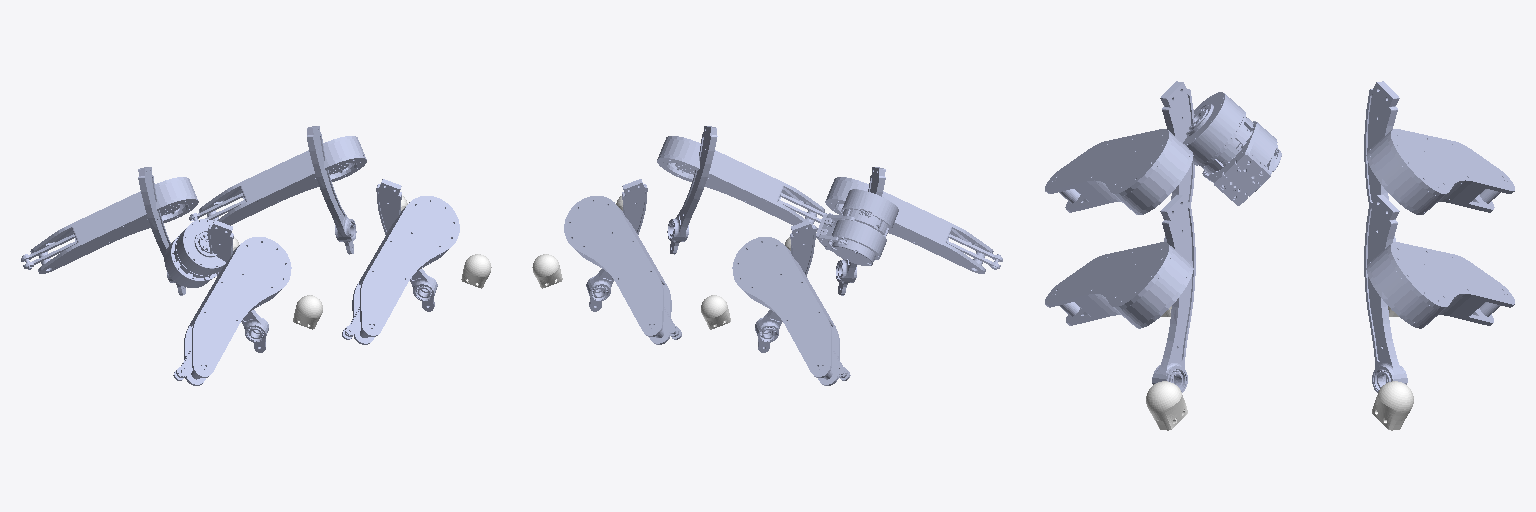
URDF robot description (Opendoge):
<?xml version="1.0" encoding="utf-8"?>
<!-- This URDF was automatically created by SolidWorks to URDF Exporter! Originally created by Stephen Brawner (brawner@gmail.com) 
     Commit Version: 1.5.1-0-g916b5db  Build Version: 1.5.7152.31018
     For more information, please see http://wiki.ros.org/sw_urdf_exporter -->
<robot
  name="Opendoge">
  <link
    name="base_link">
    <inertial>
      <origin
        xyz="0.000134773648275938 1.36367968484041E-06 0.000770353067310358"
        rpy="0 0 0" />
      <mass
        value="2.2352588780603" />
      <inertia
        ixx="0.0054247"
        ixy="1.29E-06"
        ixz="-0.0000959"
        iyy="0.0099197"
        iyz="-0.0000002"
        izz="0.013453" />
    </inertial>
    <visual>
      <origin
        xyz="0 0 0"
        rpy="0 0 0" />
      <geometry>
        <mesh
          filename="../meshes/base_link.STL" />
      </geometry>
      <material
        name="">
        <color
          rgba="0.792156862745098 0.819607843137255 0.933333333333333 1" />
      </material>
    </visual>
    <collision>
      <origin
        xyz="0 0 0.015"
        rpy="0 0 0" />
      <geometry>
        <box size="0.17 0.09 0.1" />
      </geometry>
    </collision>
  </link>
  <link
    name="FL_hip">
    <inertial>
      <origin
        xyz="-0.0019419 -0.00069982 1.3745E-06"
        rpy="0 0 0" />
      <mass
        value="0.27308" />
      <inertia
        ixx="8.83E-05"
        ixy="-0.00000146"
        ixz="0"
        iyy="8.839E-05"
        iyz="-0.00000001"
        izz="0.00010203" />
    </inertial>
    <visual>
      <origin
        xyz="0 0 0"
        rpy="0 0 0" />
      <geometry>
        <mesh
          filename="../meshes/FL_hip.STL" />
      </geometry>
      <material
        name="">
        <color
          rgba="0.79216 0.81961 0.93333 1" />
      </material>
    </visual>
    <collision>
      <origin
        xyz="0.0 0 0"
        rpy="1.56 1.56 0" />
      <geometry>
        <cylinder length="0.045" radius="0.03" />
      </geometry>
    </collision>
  </link>
  <joint
    name="FL_hip_joint"
    type="revolute">
    <origin
      xyz="0.1425 0.039989 0"
      rpy="0 0 0" />
    <parent
      link="base_link" />
    <child
      link="FL_hip" />
    <axis
      xyz="1 0 0" />
    <limit
      lower="-0.785"
      upper="0.26"
      effort="6"
      velocity="10.472" />
  </joint>
  <link
    name="FL_thigh">
    <inertial>
      <origin
        xyz="-0.0003843 -0.028095 -0.0056139"
        rpy="0 0 0" />
      <mass
        value="0.344" />
      <inertia
        ixx="0.00030277"
        ixy="-0.0000149"
        ixz="1.995E-05"
        iyy="0.00024471"
        iyz="-0.00005947"
        izz="0.00018346" />
    </inertial>
    <visual>
      <origin
        xyz="0 0 0"
        rpy="0 0 0" />
      <geometry>
        <mesh
          filename="../meshes/FL_thigh.STL" />
      </geometry>
      <material
        name="">
        <color
          rgba="0.79216 0.81961 0.93333 1" />
      </material>
    </visual>
    <collision>
      <origin
        xyz="0.004 0.0 -0.028"
        rpy="0 0.45 0" />
      <geometry>
        <box size="0.02 0.025 0.07" />
      </geometry>
    </collision>
  </link>
  <joint
    name="FL_thigh_joint"
    type="revolute">
    <origin
      xyz="0 0.08615 0"
      rpy="0 0 0" />
    <parent
      link="FL_hip" />
    <child
      link="FL_thigh" />
    <axis
      xyz="0 1 0" />
    <limit
      lower="-0.785"
      upper="1.134"
      effort="6"
      velocity="10.472" />
  </joint>
  <link
    name="FL_calf">
    <inertial>
      <origin
        xyz="0.0049765 -1.1726E-05 -0.047529"
        rpy="0 0 0" />
      <mass
        value="0.023132" />
      <inertia
        ixx="2.88E-05"
        ixy="0"
        ixz="9E-08"
        iyy="2.93E-05"
        iyz="0"
        izz="1.05E-06" />
    </inertial>
    <visual>
      <origin
        xyz="0 0 0"
        rpy="0 0 0" />
      <geometry>
        <mesh
          filename="../meshes/FL_calf.STL" />
      </geometry>
      <material
        name="">
        <color
          rgba="0.79216 0.81961 0.93333 1" />
      </material>
    </visual>
    <collision>
      <origin
        xyz="0.006 0 -0.040"
        rpy="0 -0.0 0" />
      <geometry>
        <cylinder length="0.05" radius="0.01" />
      </geometry>
    </collision>
  </link>
  <joint
    name="FL_calf_joint"
    type="revolute">
    <origin
      xyz="0 0 -0.0999999999999995"
      rpy="0 0 0" />
    <parent
      link="FL_thigh" />
    <child
      link="FL_calf" />
    <axis
      xyz="0 1 0" />
    <limit
      lower="-2.68"
      upper="-1.04"
      effort="9"
      velocity="6.981" />
  </joint>
  <link
    name="FL_foot">
    <inertial>
      <origin
        xyz="-0.000865572631019856 -1.88410314572174E-07 -0.00223318694318475"
        rpy="0 0 0" />
      <mass
        value="0.003984611677171" />
      <inertia
        ixx="2.4E-07"
        ixy="0"
        ixz="-0.00000002"
        iyy="2.6E-07"
        iyz="0"
        izz="2.9E-07" />
    </inertial>
    <visual>
      <origin
        xyz="0 0 0"
        rpy="0 0 0" />
      <geometry>
        <mesh
          filename="../meshes/FL_foot.STL" />
      </geometry>
      <material
        name="">
        <color
          rgba="1 1 1 1" />
      </material>
    </visual>
    <collision>
      <origin
        xyz="0 0 0"
        rpy="0 0 0" />
      <geometry>
        <sphere radius="0.015" />
      </geometry>
    </collision>
  </link>
  <joint
    name="FL_foot_joint"
    type="fixed" dont_collapse="true">
    <origin
      xyz="-1.19560528428764E-05 0 -0.0993915326022981"
      rpy="0 0 0" />
    <parent
      link="FL_calf" />
    <child
      link="FL_foot" />
    <axis
      xyz="0 0 0" />
  </joint>
  <link
    name="FR_hip">
    <inertial>
      <origin
        xyz="-0.0019419 0.00069983 1.3735E-06"
        rpy="0 0 0" />
      <mass
        value="0.27308" />
      <inertia
        ixx="8.83E-05"
        ixy="1.46E-06"
        ixz="0"
        iyy="8.839E-05"
        iyz="1E-08"
        izz="0.00010203" />
    </inertial>
    <visual>
      <origin
        xyz="0 0 0"
        rpy="0 0 0" />
      <geometry>
        <mesh
          filename="../meshes/FR_hip.STL" />
      </geometry>
      <material
        name="">
        <color
          rgba="0.79216 0.81961 0.93333 1" />
      </material>
    </visual>
    <collision>
      <origin
        xyz="0.0 0 0"
        rpy="1.56 1.56 0" />
      <geometry>
        <cylinder length="0.045" radius="0.03" />
      </geometry>
    </collision>
  </link>
  <joint
    name="FR_hip_joint"
    type="revolute">
    <origin
      xyz="0.142499999999858 -0.0400749999976656 0"
      rpy="0 0 0" />
    <parent
      link="base_link" />
    <child
      link="FR_hip" />
    <axis
      xyz="1 0 0" />
    <limit
      lower="-0.26"
      upper="0.785"
      effort="6"
      velocity="10.472" />
  </joint>
  <link
    name="FR_thigh">
    <inertial>
      <origin
        xyz="-0.00039283 0.028155 -0.0056112"
        rpy="0 0 0" />
      <mass
        value="0.344" />
      <inertia
        ixx="0.00030298"
        ixy="1.489E-05"
        ixz="1.994E-05"
        iyy="0.00024472"
        iyz="5.959E-05"
        izz="0.00018366" />
    </inertial>
    <visual>
      <origin
        xyz="0 0 0"
        rpy="0 0 0" />
      <geometry>
        <mesh
          filename="../meshes/FR_thigh.STL" />
      </geometry>
      <material
        name="">
        <color
          rgba="0.79216 0.81961 0.93333 1" />
      </material>
    </visual>
    <collision>
      <origin
        xyz="0.004 0.0 -0.028"
        rpy="0 0.45 0" />
      <geometry>
        <box size="0.02 0.025 0.07" />
      </geometry>
    </collision>
  </link>
  <joint
    name="FR_thigh_joint"
    type="revolute">
    <origin
      xyz="0 -0.0861000000019044 0"
      rpy="0 0 0" />
    <parent
      link="FR_hip" />
    <child
      link="FR_thigh" />
    <axis
      xyz="0 1 0" />
    <limit
      lower="-0.785"
      upper="1.134"
      effort="6"
      velocity="10.472" />
  </joint>
  <link
    name="FR_calf">
    <inertial>
      <origin
        xyz="0.00497648448877838 -1.17258056406416E-05 -0.0475293389060001"
        rpy="0 0 0" />
      <mass
        value="0.0231322296621475" />
      <inertia
        ixx="2.88E-05"
        ixy="0"
        ixz="9E-08"
        iyy="2.93E-05"
        iyz="0"
        izz="1.05E-06" />
    </inertial>
    <visual>
      <origin
        xyz="0 0 0"
        rpy="0 0 0" />
      <geometry>
        <mesh
          filename="../meshes/FR_calf.STL" />
      </geometry>
      <material
        name="">
        <color
          rgba="0.792156862745098 0.819607843137255 0.933333333333333 1" />
      </material>
    </visual>
    <collision>
      <origin
        xyz="0.006 0 -0.040"
        rpy="0 -0.0 0" />
      <geometry>
        <cylinder length="0.05" radius="0.01" />
      </geometry>
    </collision>
  </link>
  <joint
    name="FR_calf_joint"
    type="revolute">
    <origin
      xyz="0 0 -0.0999999999999996"
      rpy="0 0 0" />
    <parent
      link="FR_thigh" />
    <child
      link="FR_calf" />
    <axis
      xyz="0 1 0" />
    <limit
      lower="-2.68"
      upper="-1.04"
      effort="9"
      velocity="6.981" />
  </joint>
  <link
    name="FR_foot">
    <inertial>
      <origin
        xyz="-0.00086557 -1.8841E-07 -0.0022332"
        rpy="0 0 0" />
      <mass
        value="0.0039846" />
      <inertia
        ixx="2.4E-07"
        ixy="0"
        ixz="-0.00000002"
        iyy="2.6E-07"
        iyz="0"
        izz="2.9E-07" />
    </inertial>
    <visual>
      <origin
        xyz="0 0 0"
        rpy="0 0 0" />
      <geometry>
        <mesh
          filename="../meshes/FR_foot.STL" />
      </geometry>
      <material
        name="">
        <color
          rgba="1 1 1 1" />
      </material>
    </visual>
    <collision>
      <origin
        xyz="0 0 0"
        rpy="0 0 0" />
      <geometry>
        <sphere radius="0.015" />
      </geometry>
    </collision>
  </link>
  <joint
    name="FR_foot_joint"
    type="fixed" dont_collapse="true">
    <origin
      xyz="-1.19560528428764E-05 0 -0.0993915326022981"
      rpy="0 0 0" />
    <parent
      link="FR_calf" />
    <child
      link="FR_foot" />
    <axis
      xyz="0 0 0" />
  </joint>
  <link
    name="RL_hip">
    <inertial>
      <origin
        xyz="0.0019419 -0.00069983 1.3735E-06"
        rpy="0 0 0" />
      <mass
        value="0.27308" />
      <inertia
        ixx="8.83E-05"
        ixy="1.46E-06"
        ixz="0"
        iyy="8.839E-05"
        iyz="-0.00000001"
        izz="0.00010203" />
    </inertial>
    <visual>
      <origin
        xyz="0 0 0"
        rpy="0 0 0" />
      <geometry>
        <mesh
          filename="../meshes/RL_hip.STL" />
      </geometry>
      <material
        name="">
        <color
          rgba="0.79216 0.81961 0.93333 1" />
      </material>
    </visual>
    <collision>
      <origin
        xyz="0.0 0 0"
        rpy="1.56 1.56 0" />
      <geometry>
        <cylinder length="0.045" radius="0.03" />
      </geometry>
    </collision>
  </link>
  <joint
    name="RL_hip_joint"
    type="revolute">
    <origin
      xyz="-0.1425 0.040025 0"
      rpy="0 0 0" />
    <parent
      link="base_link" />
    <child
      link="RL_hip" />
    <axis
      xyz="1 0 0" />
    <limit
      lower="-0.785"
      upper="0.26"
      effort="6"
      velocity="10.472" />
  </joint>
  <link
    name="RL_thigh">
    <inertial>
      <origin
        xyz="-0.0003843 -0.028095 -0.0056139"
        rpy="0 0 0" />
      <mass
        value="0.344" />
      <inertia
        ixx="0.00030277"
        ixy="-0.0000149"
        ixz="1.995E-05"
        iyy="0.00024471"
        iyz="-0.00005947"
        izz="0.00018346" />
    </inertial>
    <visual>
      <origin
        xyz="0 0 0"
        rpy="0 0 0" />
      <geometry>
        <mesh
          filename="../meshes/RL_thigh.STL" />
      </geometry>
      <material
        name="">
        <color
          rgba="0.79216 0.81961 0.93333 1" />
      </material>
    </visual>
    <collision>
      <origin
        xyz="0.004 0.0 -0.028"
        rpy="0 0.45 0" />
      <geometry>
        <box size="0.02 0.025 0.07" />
      </geometry>
    </collision>
  </link>
  <joint
    name="RL_thigh_joint"
    type="revolute">
    <origin
      xyz="0 0.08615 0"
      rpy="0 0 0" />
    <parent
      link="RL_hip" />
    <child
      link="RL_thigh" />
    <axis
      xyz="0 1 0" />
    <limit
      lower="-0.785"
      upper="1.134"
      effort="6"
      velocity="10.472" />
  </joint>
  <link
    name="RL_calf">
    <inertial>
      <origin
        xyz="0.0049765 -1.1726E-05 -0.047529"
        rpy="0 0 0" />
      <mass
        value="0.023132" />
      <inertia
        ixx="2.88E-05"
        ixy="0"
        ixz="9E-08"
        iyy="2.93E-05"
        iyz="0"
        izz="1.05E-06" />
    </inertial>
    <visual>
      <origin
        xyz="0 0 0"
        rpy="0 0 0" />
      <geometry>
        <mesh
          filename="../meshes/RL_calf.STL" />
      </geometry>
      <material
        name="">
        <color
          rgba="0.79216 0.81961 0.93333 1" />
      </material>
    </visual>
    <collision>
      <origin
        xyz="0.006 0 -0.040"
        rpy="0 -0.0 0" />
      <geometry>
        <cylinder length="0.05" radius="0.01" />
      </geometry>
    </collision>
  </link>
  <joint
    name="RL_calf_joint"
    type="revolute">
    <origin
      xyz="0 0 -0.0999999999999996"
      rpy="0 0 0" />
    <parent
      link="RL_thigh" />
    <child
      link="RL_calf" />
    <axis
      xyz="0 1 0" />
    <limit
      lower="-2.68"
      upper="-1.04"
      effort="9"
      velocity="6.981" />
  </joint>
  <link
    name="RL_foot">
    <inertial>
      <origin
        xyz="-0.00086557 -1.8841E-07 -0.0022332"
        rpy="0 0 0" />
      <mass
        value="0.0039846" />
      <inertia
        ixx="2.4E-07"
        ixy="0"
        ixz="-0.00000002"
        iyy="2.6E-07"
        iyz="0"
        izz="2.9E-07" />
    </inertial>
    <visual>
      <origin
        xyz="0 0 0"
        rpy="0 0 0" />
      <geometry>
        <mesh
          filename="../meshes/RL_foot.STL" />
      </geometry>
      <material
        name="">
        <color
          rgba="1 1 1 1" />
      </material>
    </visual>
    <collision>
      <origin
        xyz="0 0 0"
        rpy="0 0 0" />
      <geometry>
        <sphere radius="0.015" />
      </geometry>
    </collision>
  </link>
  <joint
    name="RL_foot_joint"
    type="fixed" dont_collapse="true">
    <origin
      xyz="-1.19560528427792E-05 0 -0.099391532602298"
      rpy="0 0 0" />
    <parent
      link="RL_calf" />
    <child
      link="RL_foot" />
    <axis
      xyz="0 0 0" />
  </joint>
  <link
    name="RR_hip">
    <inertial>
      <origin
        xyz="0.0019419 0.00069982 1.3745E-06"
        rpy="0 0 0" />
      <mass
        value="0.27308" />
      <inertia
        ixx="8.83E-05"
        ixy="-0.00000146"
        ixz="0"
        iyy="8.839E-05"
        iyz="1E-08"
        izz="0.00010203" />
    </inertial>
    <visual>
      <origin
        xyz="0 0 0"
        rpy="0 0 0" />
      <geometry>
        <mesh
          filename="../meshes/RR_hip.STL" />
      </geometry>
      <material
        name="">
        <color
          rgba="0.79216 0.81961 0.93333 1" />
      </material>
    </visual>
    <collision>
      <origin
        xyz="0.0 0 0"
        rpy="1.56 1.56 0" />
      <geometry>
        <cylinder length="0.045" radius="0.03" />
      </geometry>
    </collision>
  </link>
  <joint
    name="RR_hip_joint"
    type="revolute">
    <origin
      xyz="-0.1425 -0.040025 0"
      rpy="0 0 0" />
    <parent
      link="base_link" />
    <child
      link="RR_hip" />
    <axis
      xyz="1 0 0" />
    <limit
      lower="-0.26"
      upper="0.785"
      effort="6"
      velocity="10.472" />
  </joint>
  <link
    name="RR_thigh">
    <inertial>
      <origin
        xyz="-0.00039283 0.028155 -0.0056112"
        rpy="0 0 0" />
      <mass
        value="0.344" />
      <inertia
        ixx="0.00030298"
        ixy="1.489E-05"
        ixz="1.994E-05"
        iyy="0.00024472"
        iyz="5.959E-05"
        izz="0.00018366" />
    </inertial>
    <visual>
      <origin
        xyz="0 0 0"
        rpy="0 0 0" />
      <geometry>
        <mesh
          filename="../meshes/RR_thigh.STL" />
      </geometry>
      <material
        name="">
        <color
          rgba="0.79216 0.81961 0.93333 1" />
      </material>
    </visual>
    <collision>
      <origin
        xyz="0.004 0.0 -0.028"
        rpy="0 0.45 0" />
      <geometry>
        <box size="0.02 0.025 0.07" />
      </geometry>
    </collision>
  </link>
  <joint
    name="RR_thigh_joint"
    type="revolute">
    <origin
      xyz="0 -0.0861499999999285 0"
      rpy="0 0 0" />
    <parent
      link="RR_hip" />
    <child
      link="RR_thigh" />
    <axis
      xyz="0 1 0" />
    <limit
      lower="-0.785"
      upper="1.134"
      effort="6"
      velocity="10.472" />
  </joint>
  <link
    name="RR_calf">
    <inertial>
      <origin
        xyz="0.0049765 -1.1726E-05 -0.047529"
        rpy="0 0 0" />
      <mass
        value="0.023132" />
      <inertia
        ixx="2.88E-05"
        ixy="0"
        ixz="9E-08"
        iyy="2.93E-05"
        iyz="0"
        izz="1.05E-06" />
    </inertial>
    <visual>
      <origin
        xyz="0 0 0"
        rpy="0 0 0" />
      <geometry>
        <mesh
          filename="../meshes/RR_calf.STL" />
      </geometry>
      <material
        name="">
        <color
          rgba="0.79216 0.81961 0.93333 1" />
      </material>
    </visual>
    <collision>
      <origin
        xyz="0.006 0 -0.040"
        rpy="0 -0.0 0" />
      <geometry>
        <cylinder length="0.05" radius="0.01" />
      </geometry>
    </collision>
  </link>
  <joint
    name="RR_calf_joint"
    type="revolute">
    <origin
      xyz="0 0 -0.1"
      rpy="0 0 0" />
    <parent
      link="RR_thigh" />
    <child
      link="RR_calf" />
    <axis
      xyz="0 1 0" />
    <limit
      lower="-2.68"
      upper="-1.04"
      effort="9"
      velocity="6.981" />
  </joint>
  <link
    name="RR_foot">
    <inertial>
      <origin
        xyz="-0.00086557 -1.8841E-07 -0.0022332"
        rpy="0 0 0" />
      <mass
        value="0.0039846" />
      <inertia
        ixx="2.4E-07"
        ixy="0"
        ixz="-0.00000002"
        iyy="2.6E-07"
        iyz="0"
        izz="2.9E-07" />
    </inertial>
    <visual>
      <origin
        xyz="0 0 0"
        rpy="0 0 0" />
      <geometry>
        <mesh
          filename="../meshes/RR_foot.STL" />
      </geometry>
      <material
        name="">
        <color
          rgba="1 1 1 1" />
      </material>
    </visual>
    <collision>
      <origin
        xyz="0 0 0"
        rpy="0 0 0" />
      <geometry>
        <sphere radius="0.015" />
      </geometry>
    </collision>
  </link>
  <joint
    name="RR_foot_joint"
    type="fixed" dont_collapse="true">
    <origin
      xyz="-1.19560528427237E-05 0 -0.0993915326022981"
      rpy="0 0 0" />
    <parent
      link="RR_calf" />
    <child
      link="RR_foot" />
    <axis
      xyz="0 0 0" />
  </joint>
</robot>

--- Render facts (derived) ---
3 views of the same robot in one strip: view 1: azimuth 30°, elevation 25°; view 2: azimuth 150°, elevation 25°; view 3: azimuth 270°, elevation 25° (orthographic).
Robot: Opendoge — 17 links, 16 joints (12 revolute, 4 fixed); root link base_link; default pose: joints at zero except 4 at the middle of their limits (FL_calf_joint = -1.86, FR_calf_joint = -1.86, RL_calf_joint = -1.86, RR_calf_joint = -1.86).
Links seen in each view (by area): view 1: RR_thigh, FR_thigh, RL_thigh, FL_thigh, RR_hip, FL_calf, FR_calf, RR_calf, RL_calf, RR_foot, FR_foot; view 2: FL_thigh, RL_thigh, FR_thigh, RR_thigh, RR_hip, FR_calf, RL_calf, FL_calf, RR_calf, RL_foot, FL_foot; view 3: FL_thigh, FR_thigh, RL_thigh, RR_thigh, RR_hip, FR_calf, FL_calf, RL_calf, RR_calf, FL_foot, FR_foot.
Link boxes in pixels (x1,y1,x2,y2): RR_thigh: [173, 237, 291, 385]; FR_thigh: [342, 196, 459, 344]; RL_thigh: [21, 177, 198, 273]; FL_thigh: [189, 136, 366, 225]; RR_hip: [164, 219, 225, 287]; FL_calf: [307, 126, 356, 254]; FR_calf: [376, 179, 437, 311]; RR_calf: [208, 220, 268, 352]; RL_calf: [138, 167, 185, 295]; RR_foot: [293, 295, 322, 329]; FR_foot: [461, 254, 491, 288]; FL_thigh: [564, 196, 681, 344]; RL_thigh: [732, 237, 850, 385]; FR_thigh: [657, 136, 832, 231]; RR_thigh: [825, 177, 1002, 273]; RR_hip: [816, 189, 898, 265]; FR_calf: [667, 126, 717, 254]; RL_calf: [755, 220, 815, 352]; FL_calf: [586, 179, 647, 311]; RR_calf: [836, 167, 885, 295]; RL_foot: [701, 295, 730, 329]; FL_foot: [532, 254, 562, 288]; FL_thigh: [1366, 242, 1514, 328]; FR_thigh: [1045, 242, 1193, 328]; RL_thigh: [1366, 129, 1514, 214]; RR_thigh: [1045, 129, 1193, 214]; RR_hip: [1183, 92, 1281, 205]; FR_calf: [1152, 195, 1195, 392]; FL_calf: [1364, 195, 1407, 392]; RL_calf: [1364, 81, 1399, 241]; RR_calf: [1160, 81, 1194, 241]; FL_foot: [1372, 381, 1413, 430]; FR_foot: [1146, 381, 1187, 430].
Bounding box of the posed robot: 0.5903 × 0.501 × 0.2259 m (x, y, z).
Meshes: 17 distinct files referenced, 13 mesh visuals loaded (13 binary STL); not drawn: 4 (reference not matched to a file when rendering).
